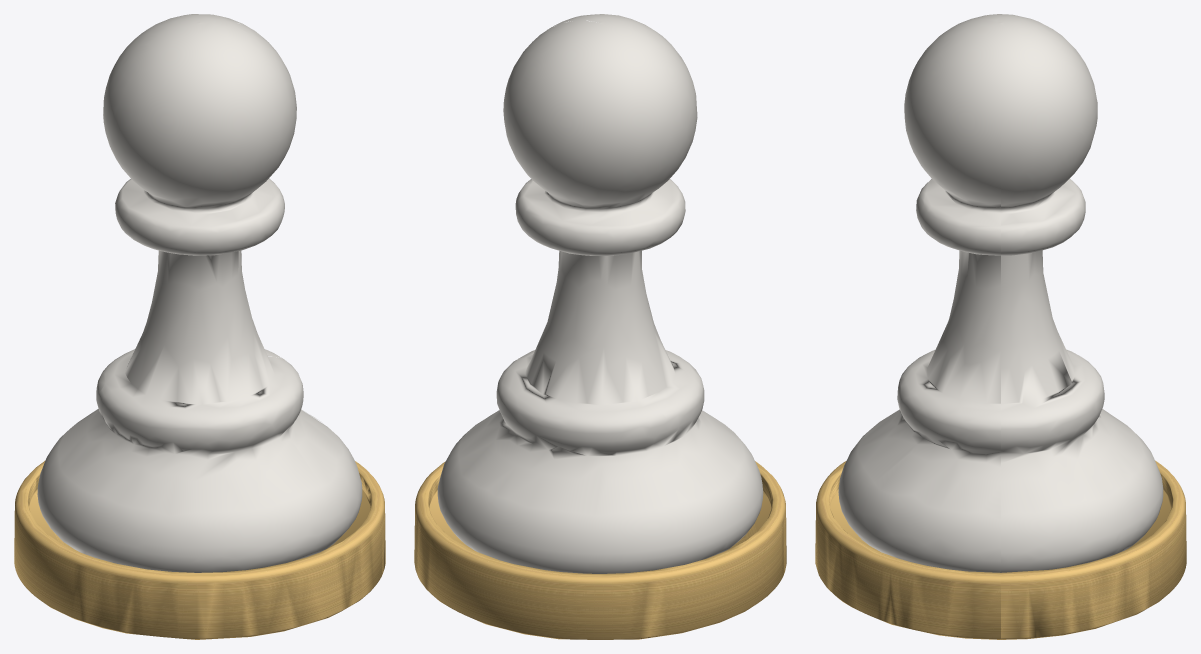
The model's file is pawn-white.glb.
3 renders of one model, left to right at view 1: azimuth 30°, elevation 25°; view 2: azimuth 150°, elevation 25°; view 3: azimuth 270°, elevation 25°, orthographic.
Visible parts, largest first — view 1: Aurum Ivoire – Pawn; view 2: Aurum Ivoire – Pawn; view 3: Aurum Ivoire – Pawn.
Part boxes in pixels (x1,y1,x2,y2): Aurum Ivoire – Pawn: (14, 14, 385, 639); Aurum Ivoire – Pawn: (414, 14, 786, 639); Aurum Ivoire – Pawn: (815, 14, 1186, 639).
Size of the model in its own units: 0.5994 by 0.96 by 0.5994.
Materials: 2 (1 with a texture image).
